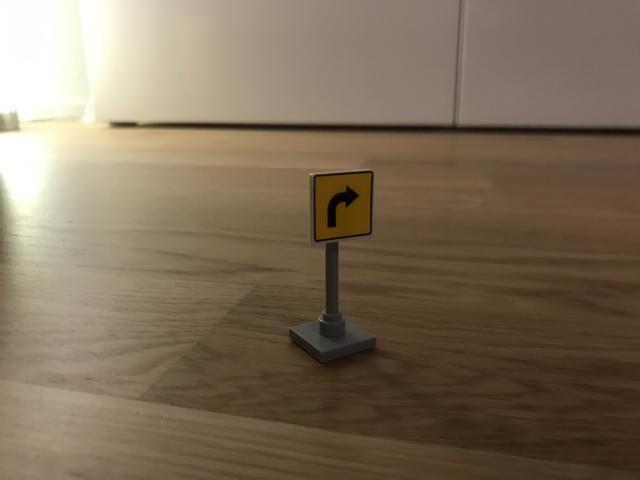fahrtrichtung rechts: (307, 168, 376, 246)
